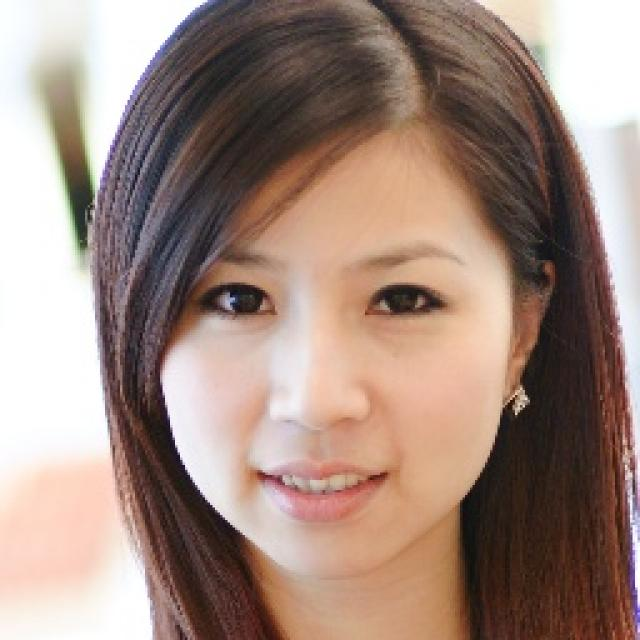earlobe: (500, 359, 524, 407)
eye: (202, 281, 274, 318), (366, 284, 443, 317)
nose: (268, 410, 368, 452)
wholeear: (501, 259, 555, 407)
